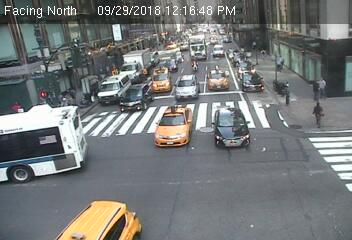car: (1, 107, 84, 182), (212, 106, 253, 148), (157, 106, 191, 149), (121, 48, 152, 86), (97, 73, 131, 104), (121, 82, 153, 111), (175, 74, 200, 101), (206, 65, 230, 92), (188, 36, 209, 62), (151, 67, 170, 94), (242, 72, 265, 90), (236, 60, 255, 76), (164, 58, 179, 76), (210, 44, 226, 58), (223, 34, 232, 43)
